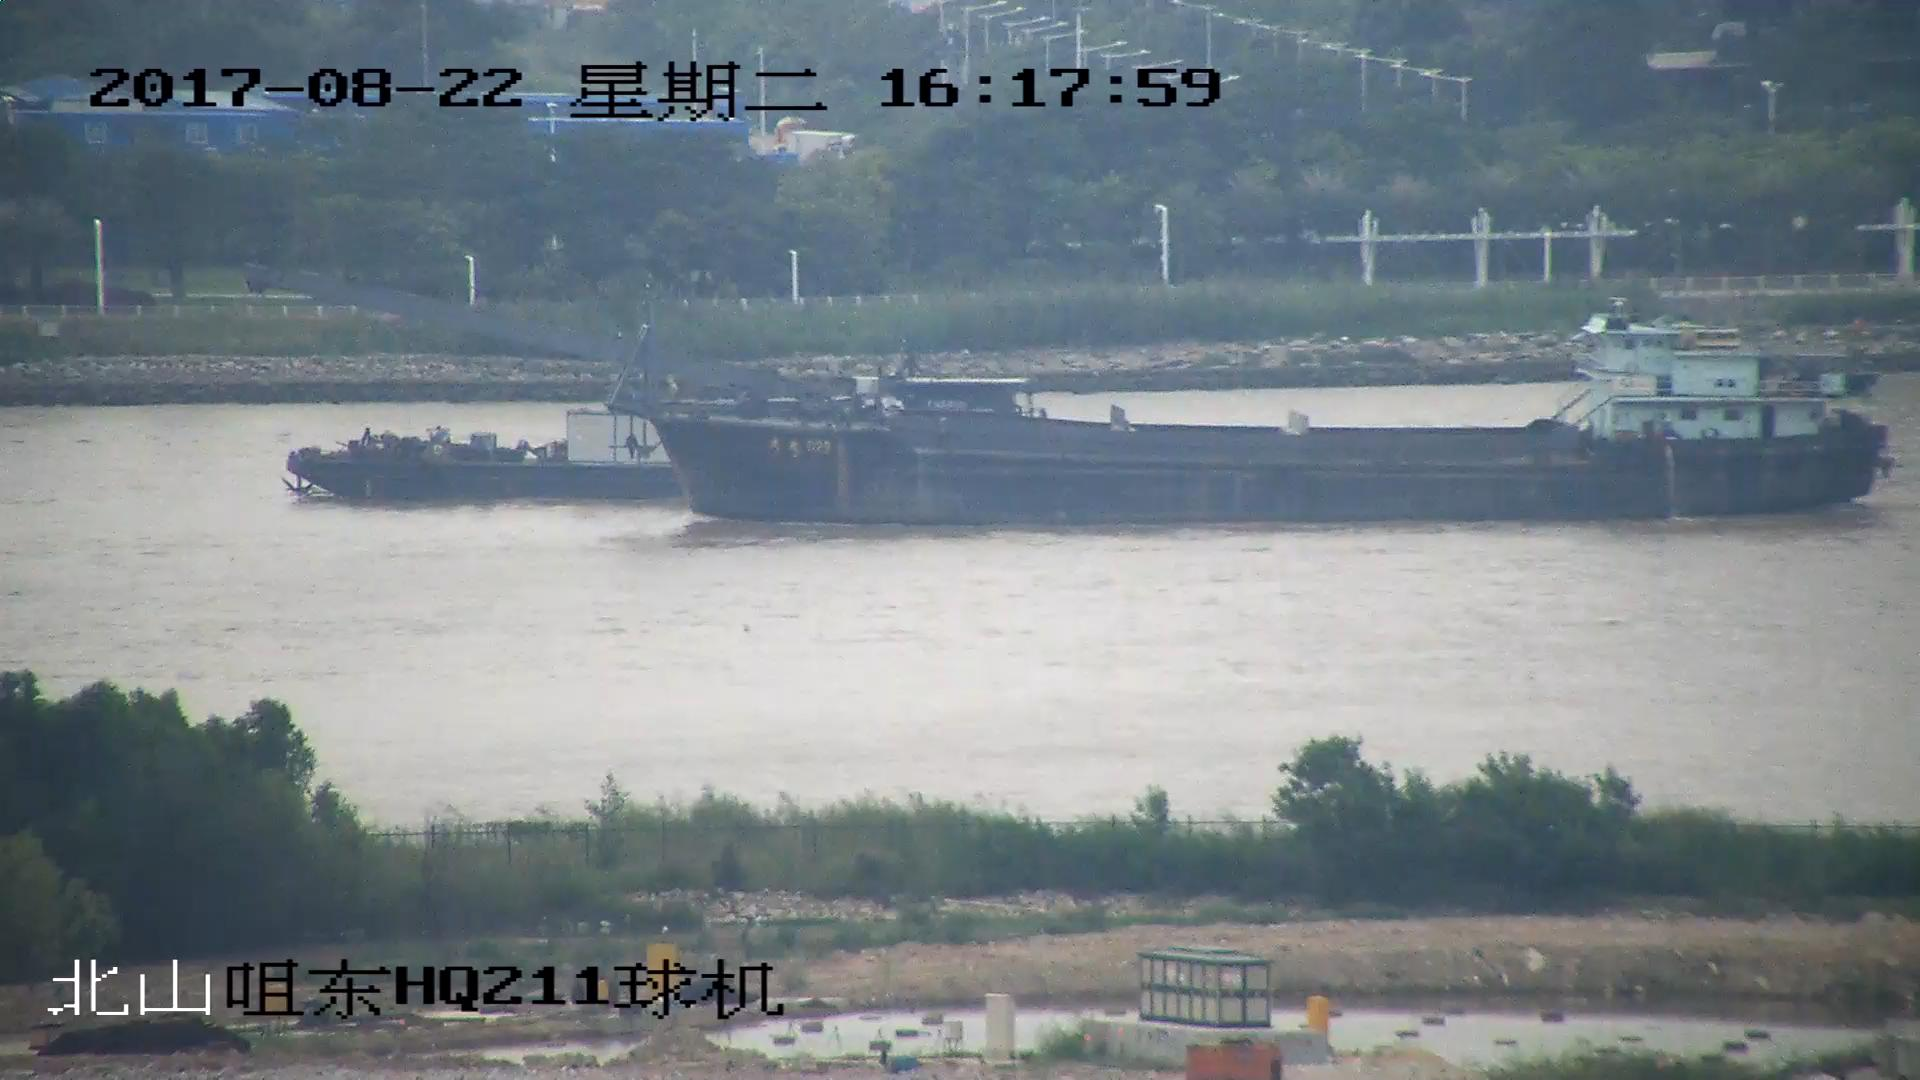bulk cargo carrier: (255, 258, 1889, 525), (282, 405, 693, 495)
